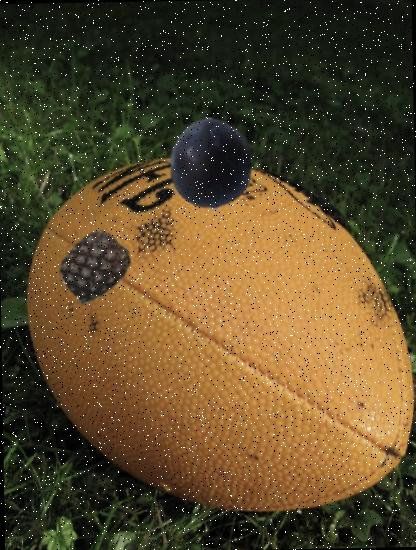Pineapple: (60, 229, 130, 300)
Plum: (163, 116, 258, 211)
